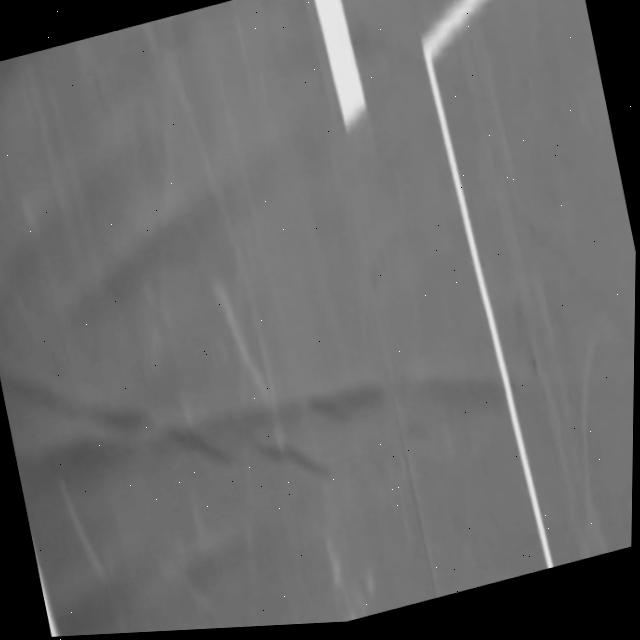center: (314, 0, 365, 132)
